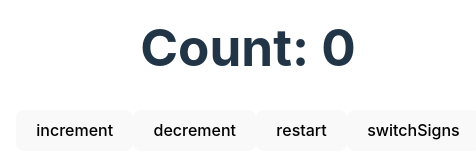
Test: <Counter /> › should increment 1 when click at increment button
Click the button "increment". click: (75, 130)
box: x1=16 y1=110 x2=133 y2=151
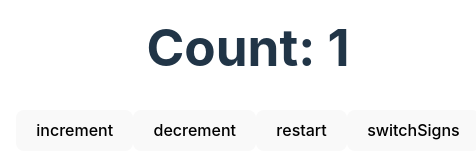
Expected: the heading with test id "countNumber" reads "Count: 1", x1=146 y1=16 x2=350 y2=78
